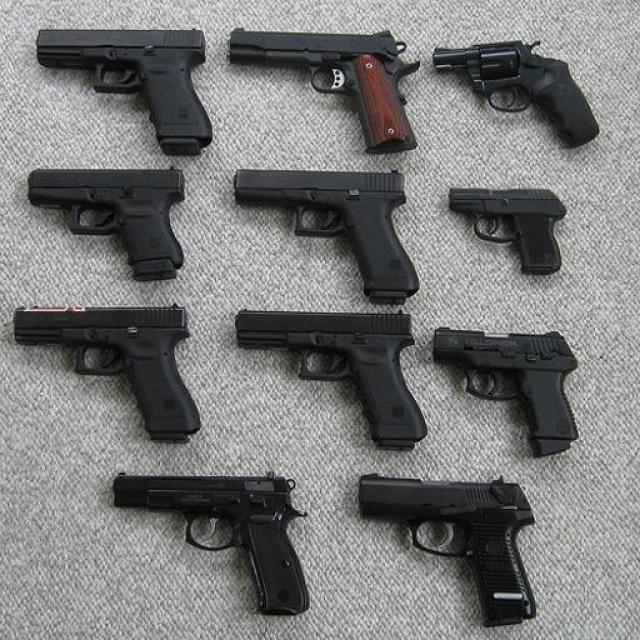pistol: (109, 470, 310, 617), (354, 471, 538, 627), (11, 300, 199, 444), (236, 307, 425, 450), (434, 325, 583, 457)
